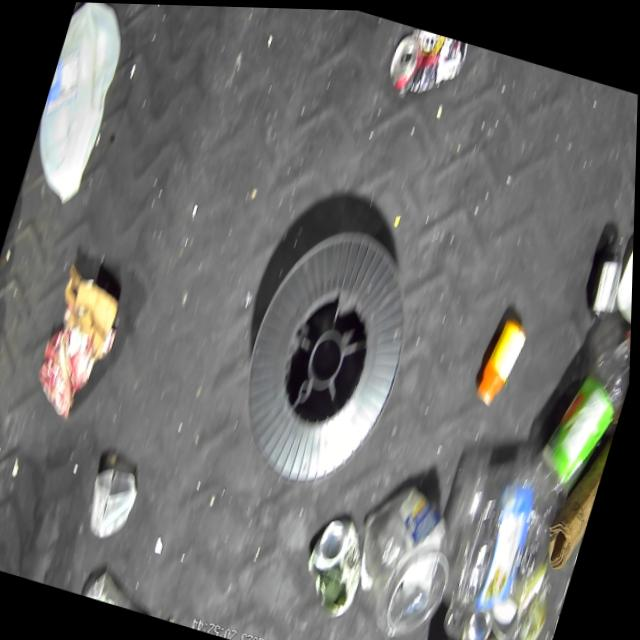can: (295, 506, 378, 622), (379, 19, 470, 112)
milk_jug: (19, 1, 135, 205)
plastic_bottle: (525, 303, 633, 515)
